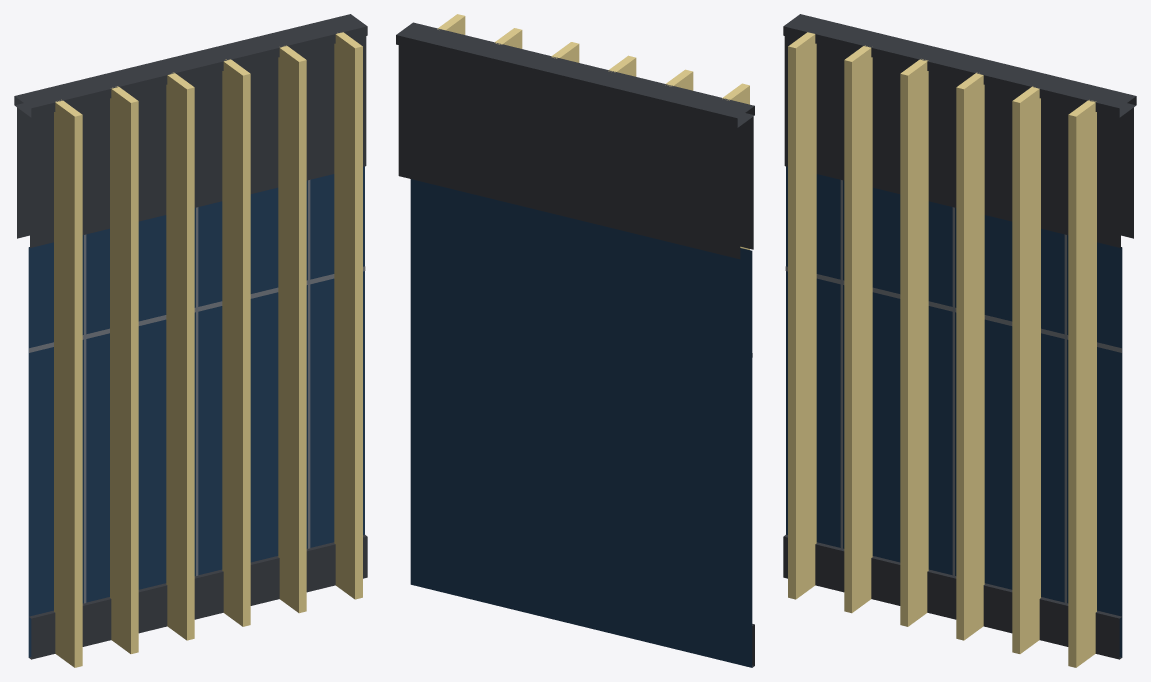
File: top-w1_close.fbx
The picture shows the model from 3 angles, left to right: view 1: azimuth 30°, elevation 25°; view 2: azimuth 150°, elevation 25°; view 3: azimuth 330°, elevation 25°; orthographic projection.
Visible parts, largest first — view 1: a2009/800/top-w1_close; view 2: a2009/800/top-w1_close; view 3: a2009/800/top-w1_close.
Boxes of the visible parts, left/top/right/bottom form: a2009/800/top-w1_close: left=14, top=14, right=367, bottom=667; a2009/800/top-w1_close: left=396, top=14, right=754, bottom=667; a2009/800/top-w1_close: left=783, top=14, right=1136, bottom=667.
Bounding box in the file's own units: 3 × 4.7 × 0.56.
